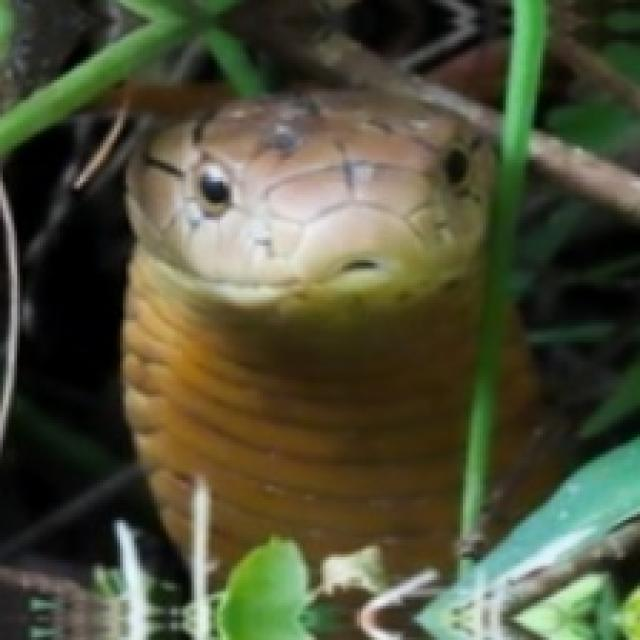king cobra: (123, 91, 491, 583)
